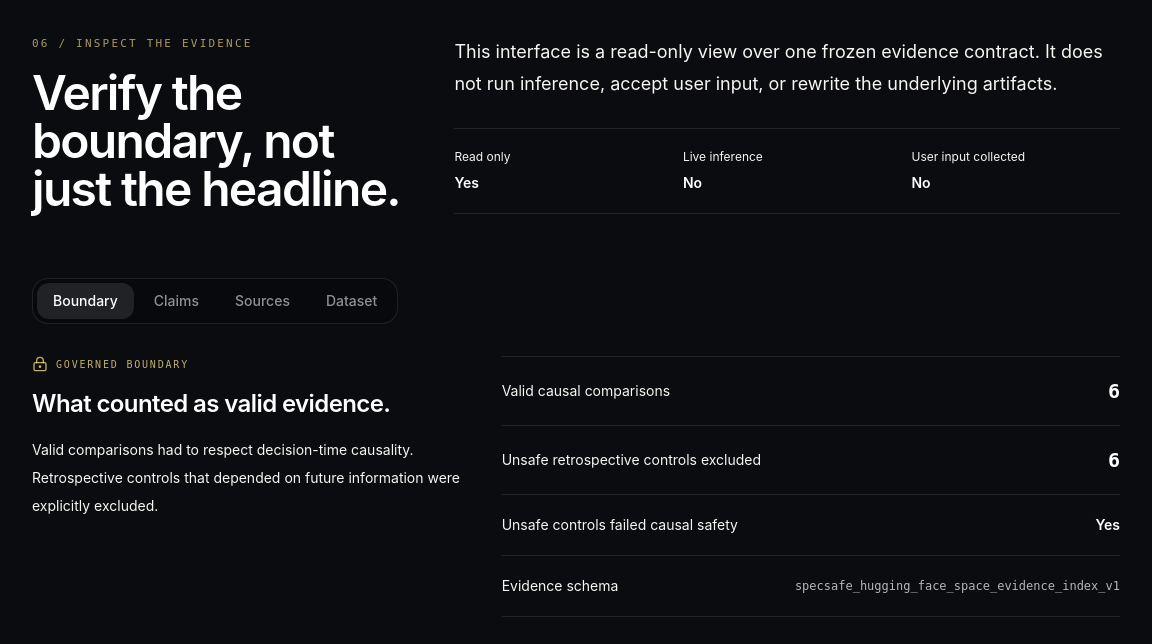
Test: EvidenceExplorerSection › keeps claims and non-claims inspectable in the Claims tab
This screenshot has width=1152, height=644.
Click the tab "Claims". click: click(176, 301)
box: [138,283,215,319]
(page scrolled)
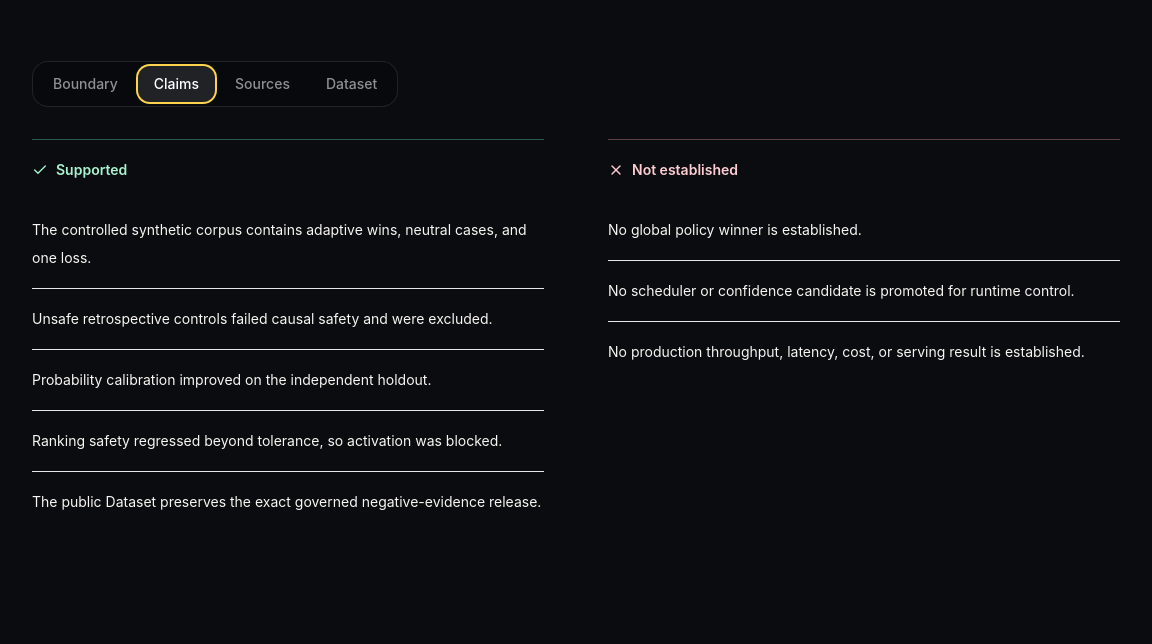
Expected: the panel named "Claims" shows "No global policy winner is established.", [608,221,862,238]
Expected: the panel named "Claims" shows "Ranking safety regressed beyond tolerance, so activation was blocked.", [32,432,502,449]
